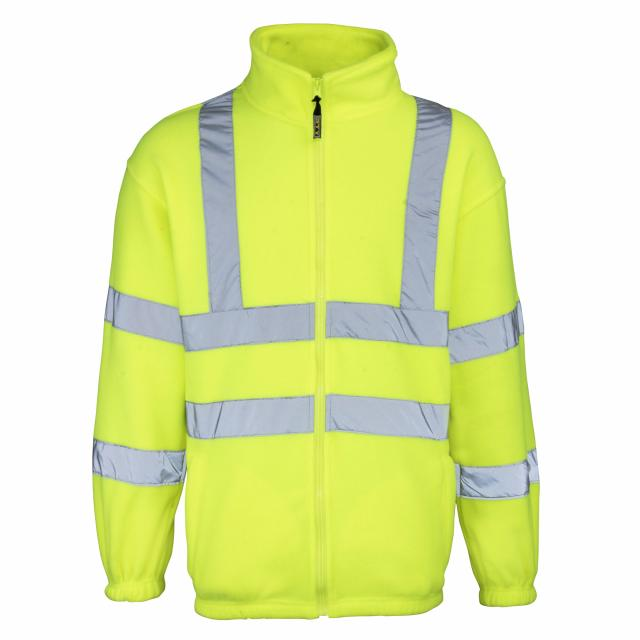Reflective-Jacket: (72, 20, 561, 640)
